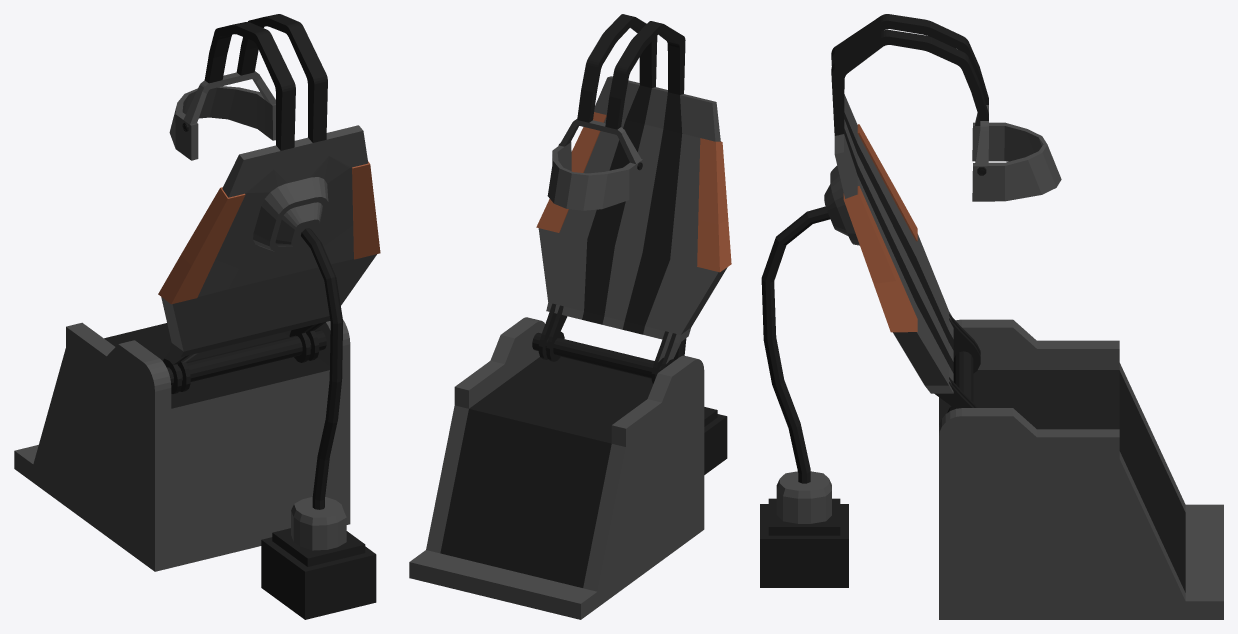
File: console.fbx
The picture shows the model from 3 angles, left to right: view 1: azimuth 30°, elevation 25°; view 2: azimuth 150°, elevation 25°; view 3: azimuth 270°, elevation 25°; orthographic projection. The views are drawn at different scales.
Visible parts, largest first — view 1: console; view 2: console; view 3: console.
Part boxes in pixels (left/top/right/bottom): console: left=14, top=14, right=380, bottom=619; console: left=409, top=14, right=731, bottom=619; console: left=760, top=14, right=1223, bottom=619.
Size of the model in its own units: 0.5503 by 1.04 by 1.35.
